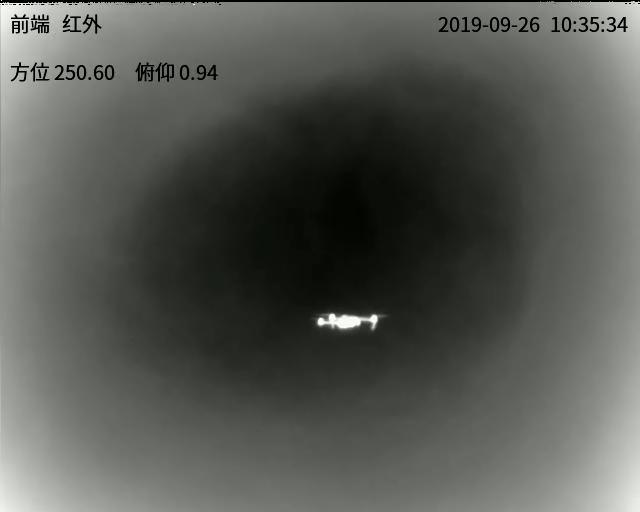uav: (311, 310, 380, 337)
